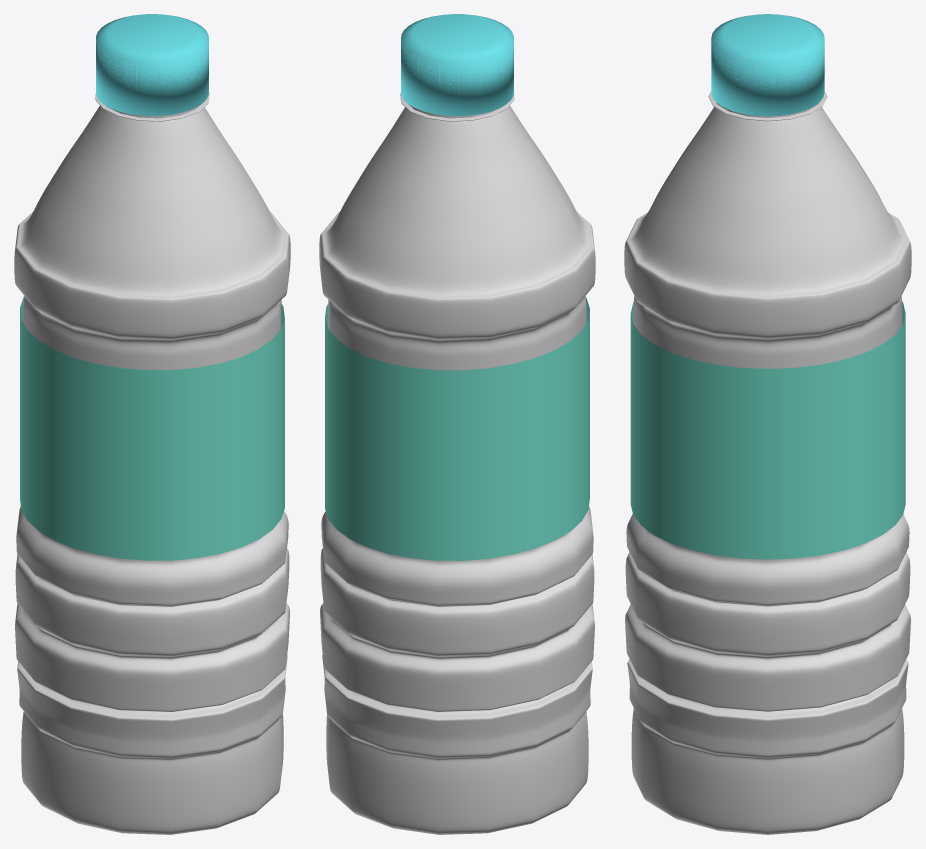
File: bottle.fbx
The picture shows the model from 3 angles, left to right: view 1: azimuth 30°, elevation 25°; view 2: azimuth 150°, elevation 25°; view 3: azimuth 270°, elevation 25°; orthographic projection.
Visible parts, largest first — view 1: NurbsPath_NurbsPath.002, Cylinder, Cylinder.001; view 2: NurbsPath_NurbsPath.002, Cylinder, Cylinder.001; view 3: NurbsPath_NurbsPath.002, Cylinder, Cylinder.001.
Part boxes in pixels (bbox=[...]): NurbsPath_NurbsPath.002: bbox=[14, 93, 290, 834]; Cylinder: bbox=[20, 296, 284, 560]; Cylinder.001: bbox=[96, 14, 208, 116]; NurbsPath_NurbsPath.002: bbox=[319, 93, 595, 834]; Cylinder: bbox=[325, 296, 589, 560]; Cylinder.001: bbox=[401, 14, 513, 116]; NurbsPath_NurbsPath.002: bbox=[624, 91, 911, 834]; Cylinder: bbox=[630, 302, 905, 559]; Cylinder.001: bbox=[711, 14, 824, 116].
Size of the model in its own units: 40.02 by 120 by 41.49.
